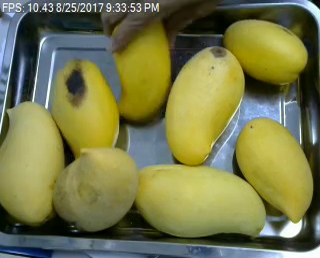Mango: (165, 47, 244, 164), (136, 165, 266, 235), (235, 116, 313, 221), (0, 102, 65, 226), (52, 146, 137, 230), (51, 58, 118, 161), (113, 7, 172, 121), (224, 19, 308, 84)
